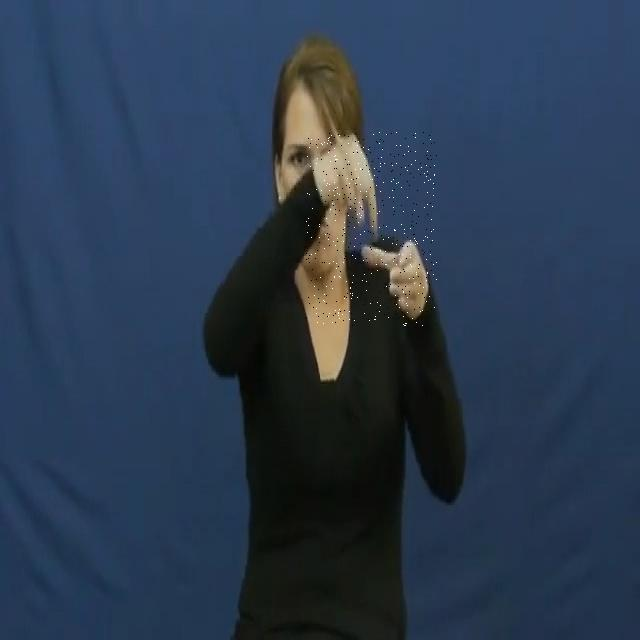lactose: (305, 132, 438, 326)
